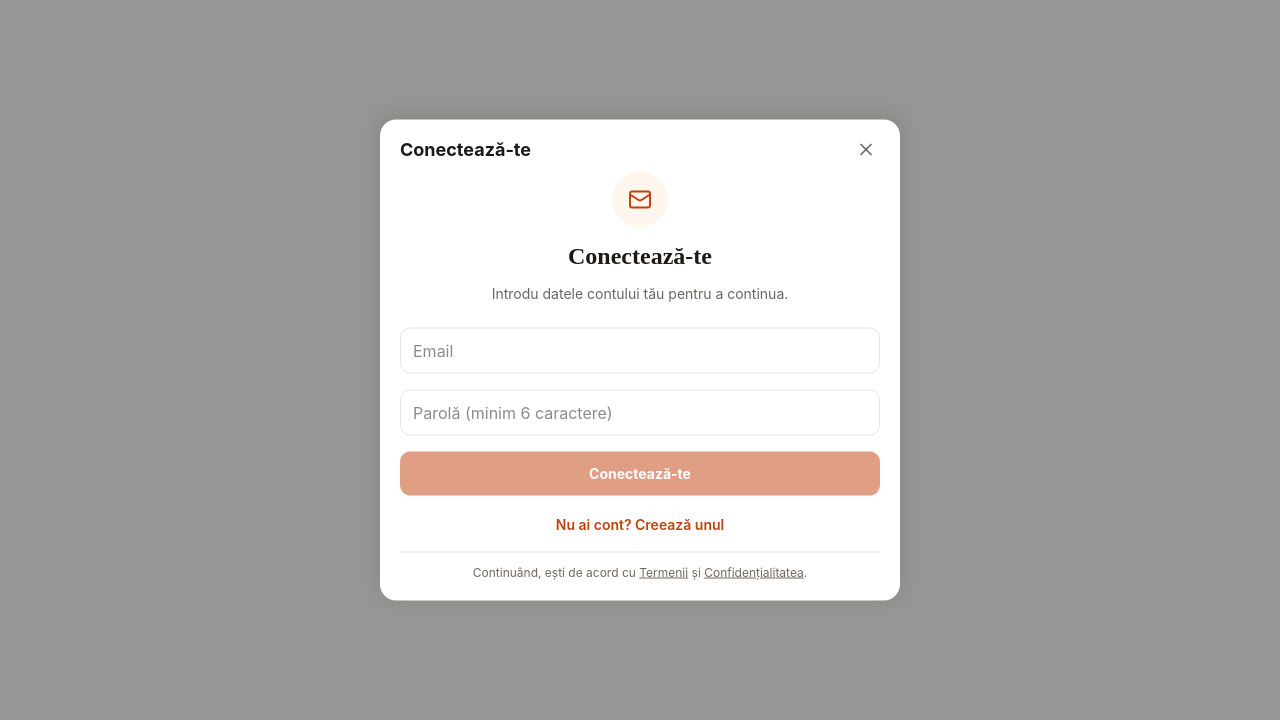
Test: AuthSheet › shows the confirmation panel when sign-up requires email confirmation
Click the button "Nu ai cont? Creează unul".
click(640, 524)  # box [556,514,724,534]
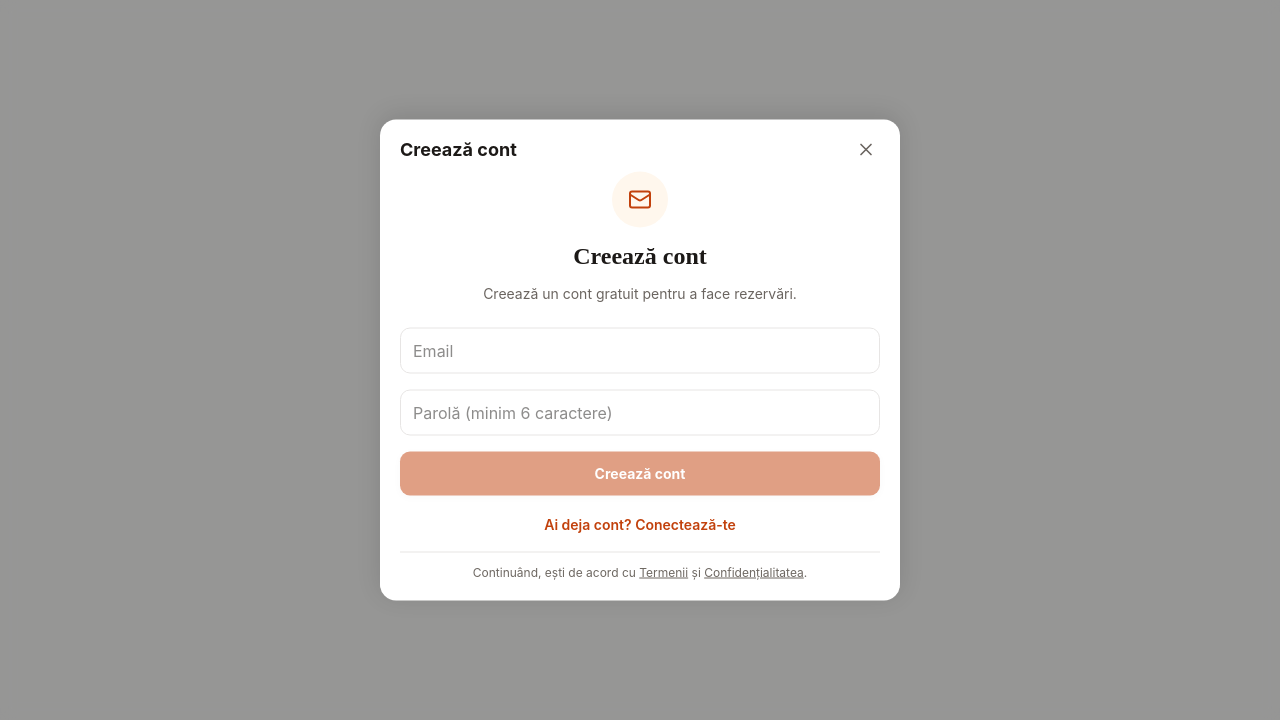
Type "new@test.com" into the field labelled "Email".
click(640, 350); type("new@test.com")  # box [400,328,880,374]
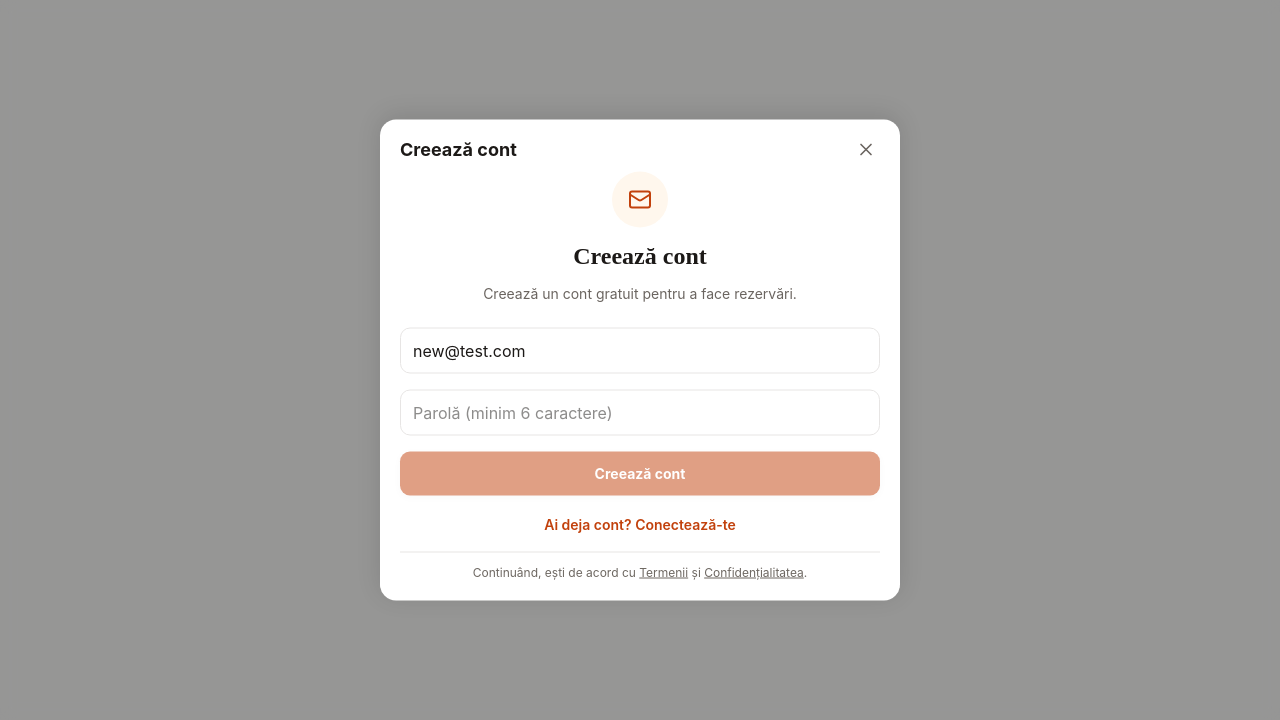
Type "secret123" into the password field labelled "Parolă".
click(640, 412); type("secret123")  # box [400,390,880,436]
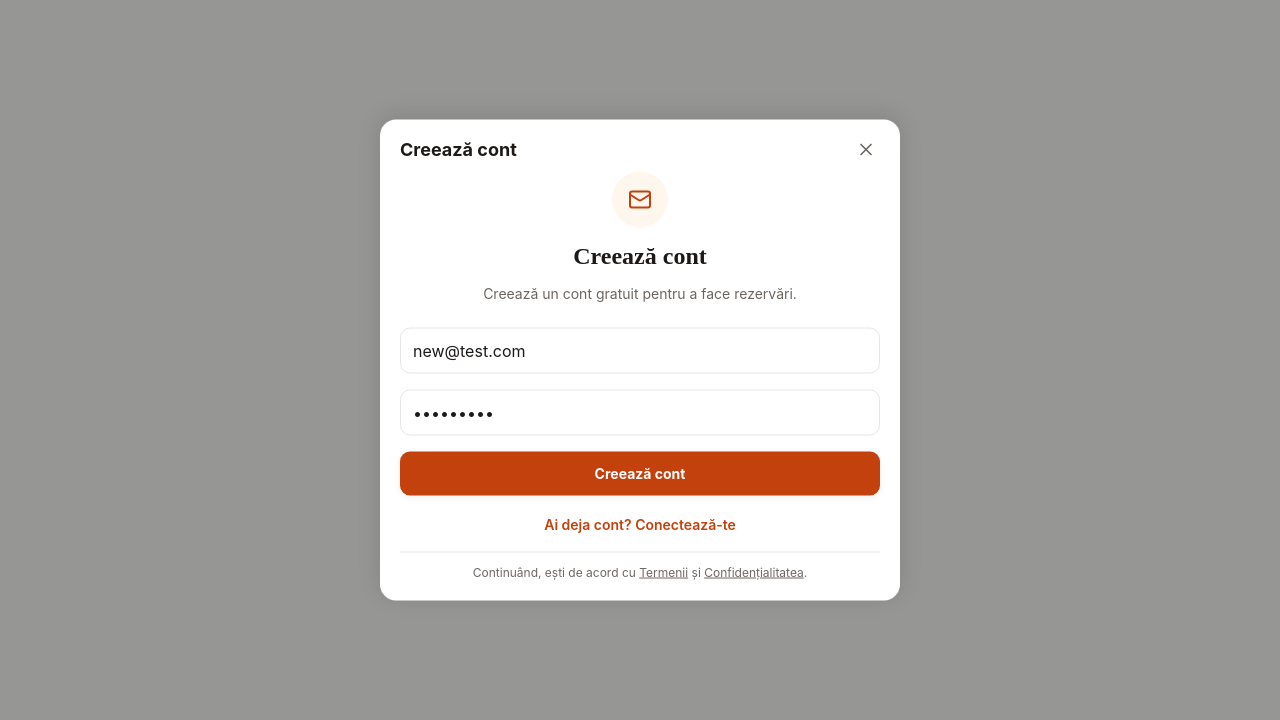
Click the button "Creează cont".
click(640, 474)  # box [400,452,880,496]
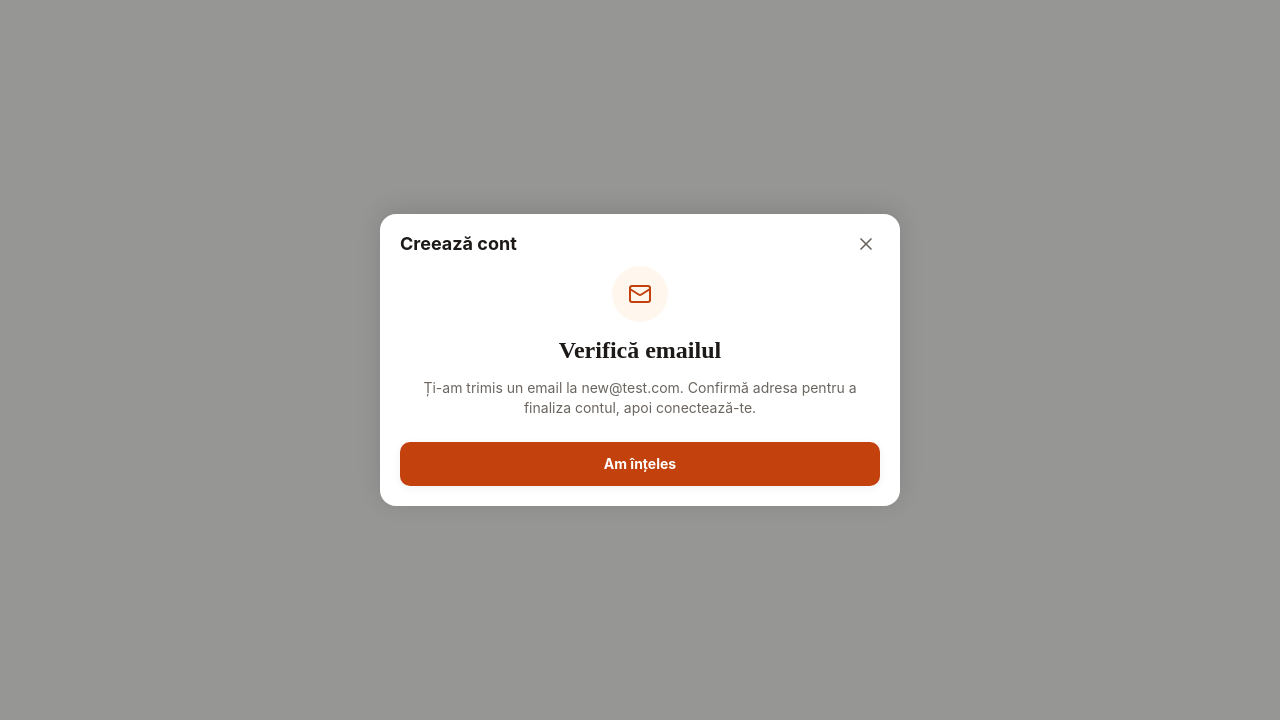
expect the text "new@test.com" is shown: met, box [423,379,856,416]
